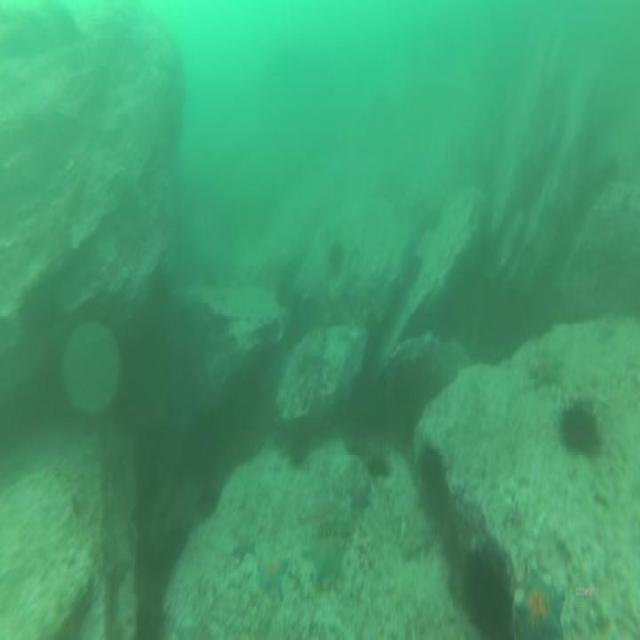echinus: (469, 556, 505, 640), (421, 452, 447, 510), (564, 408, 594, 452), (196, 478, 222, 522), (287, 432, 309, 466), (329, 240, 343, 278)
holothurian: (318, 518, 354, 542)
starfish: (521, 577, 562, 638), (303, 539, 342, 581), (255, 550, 285, 589), (532, 354, 564, 384), (400, 525, 424, 561), (346, 477, 369, 506), (232, 531, 252, 555)
